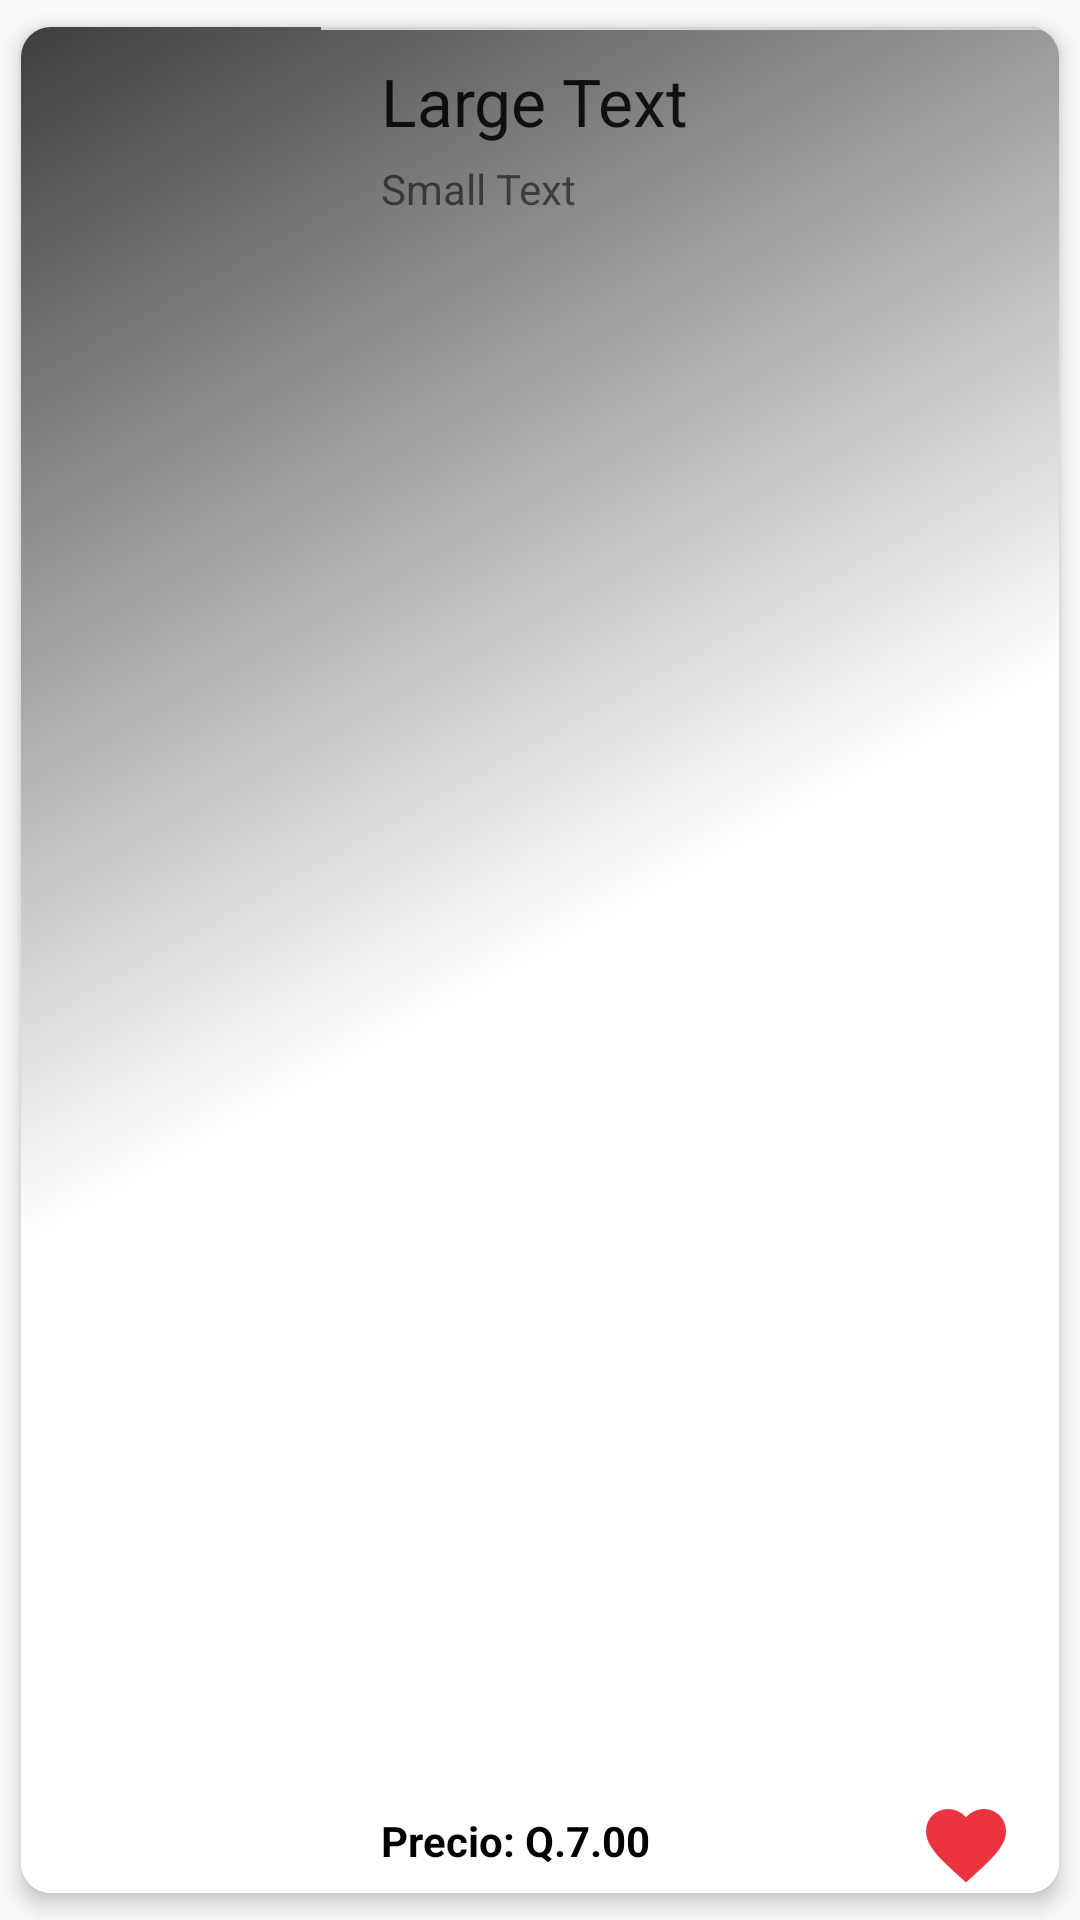

Point at icon controls on the screen. Image size 1080 × 1920, points as [x,y].
favorite: [966,1846]
